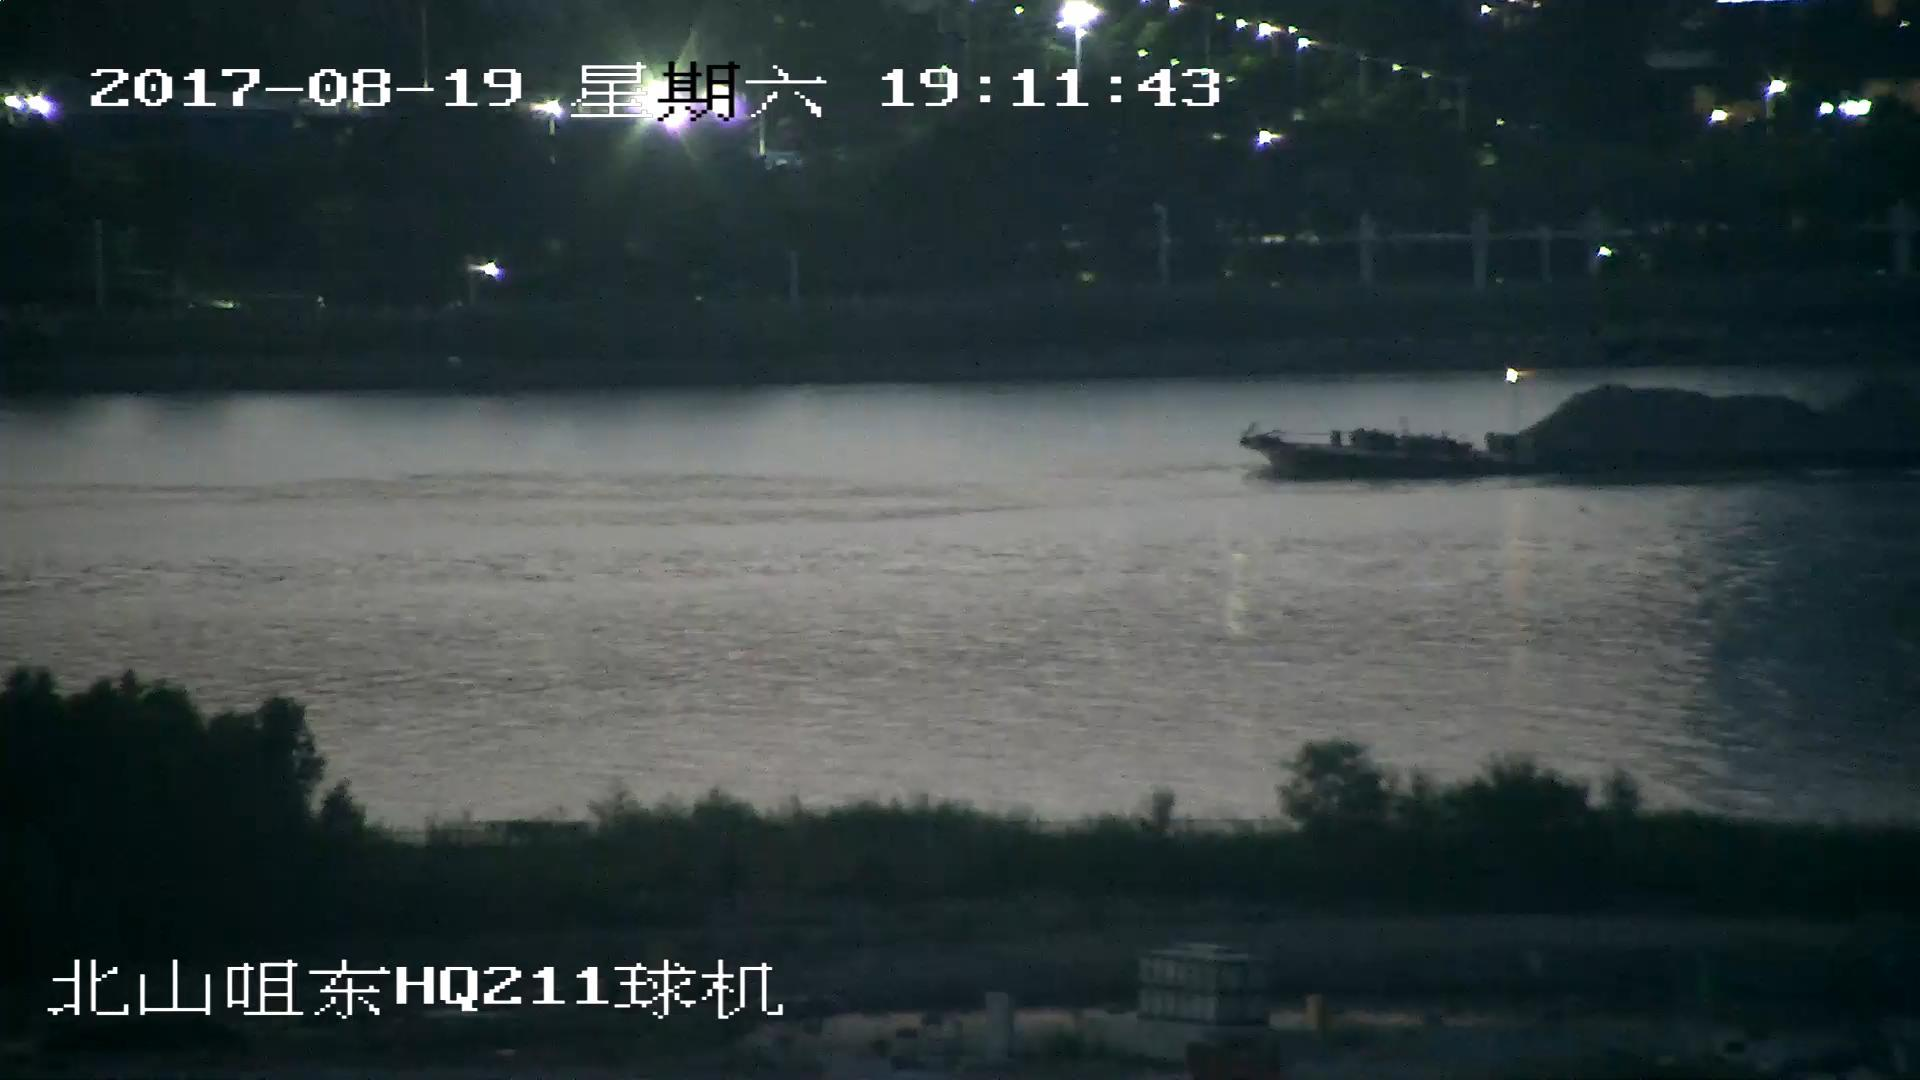Ship: (1236, 382, 1920, 492)
